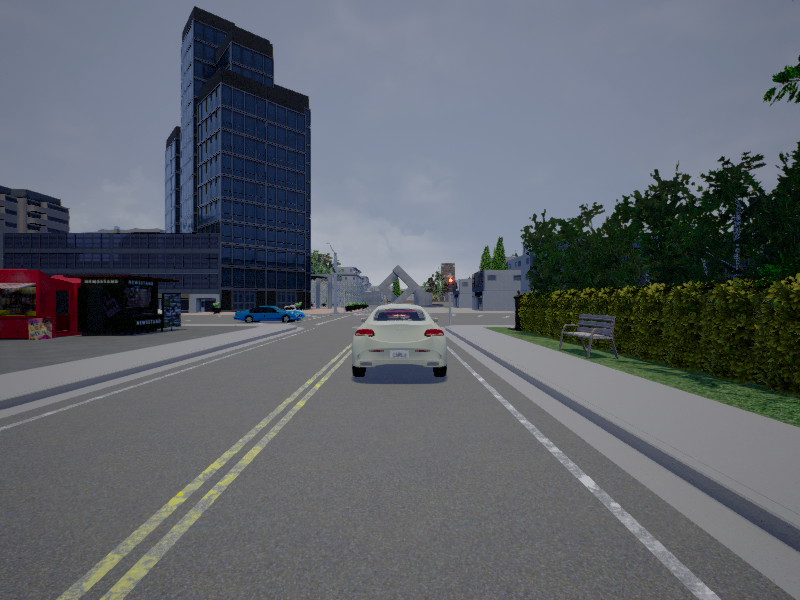Benign: (351, 303, 450, 380), (235, 305, 306, 322)
